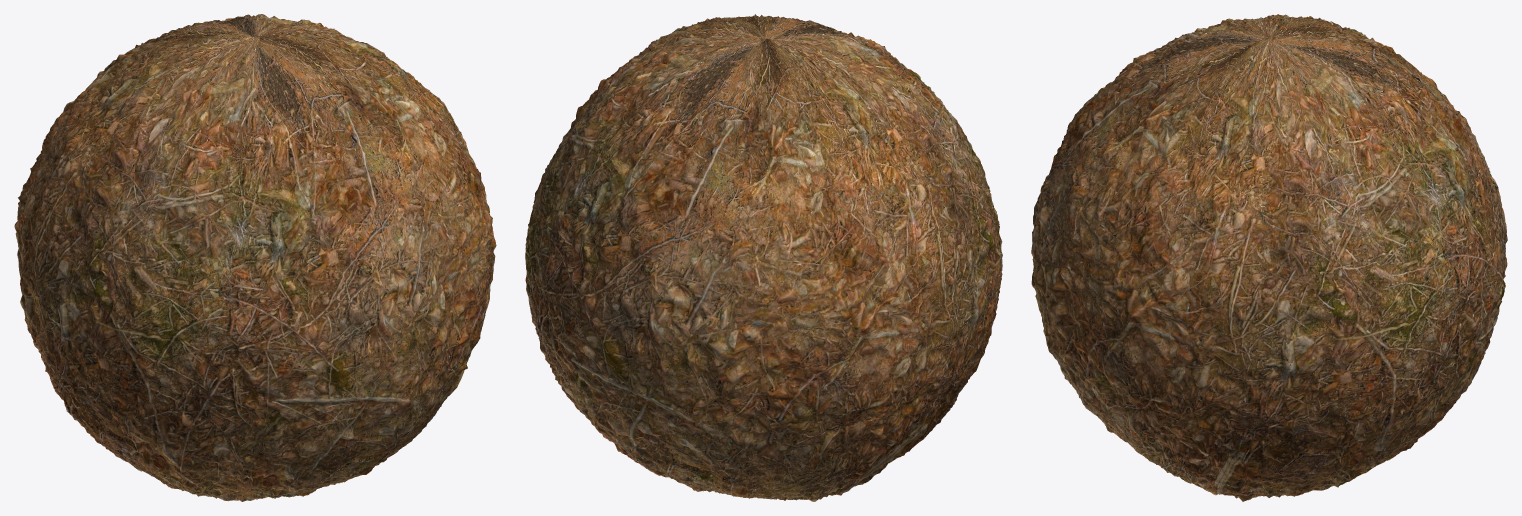
Rendered from forest_leaves_04_1k.gltf.
3 renders of one model, left to right at view 1: azimuth 30°, elevation 25°; view 2: azimuth 150°, elevation 25°; view 3: azimuth 270°, elevation 25°, orthographic.
Visible parts, largest first — view 1: sphere_gltf; view 2: sphere_gltf; view 3: sphere_gltf.
Boxes of the visible parts, bbox=[...] form: sphere_gltf: bbox=[14, 14, 496, 501]; sphere_gltf: bbox=[525, 14, 1002, 501]; sphere_gltf: bbox=[1031, 14, 1507, 501].
Size of the model in its own units: 1.49 by 1.56 by 1.52.
1 material, 1 textured.
